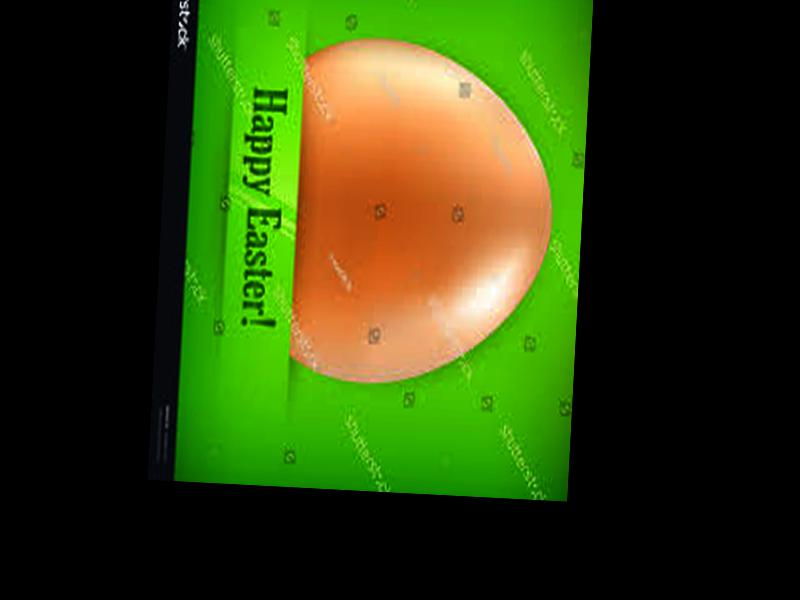Eggs: (288, 36, 561, 392)
